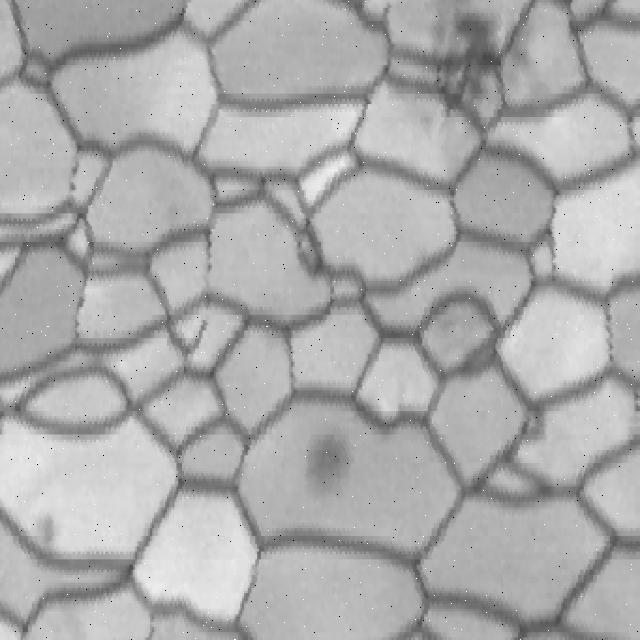good_void: (414, 0, 520, 158), (288, 413, 368, 517), (28, 498, 61, 549)
